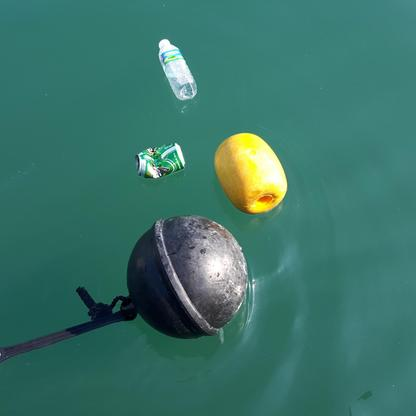can: (135, 141, 184, 178)
plastic bottle: (158, 37, 198, 99)
